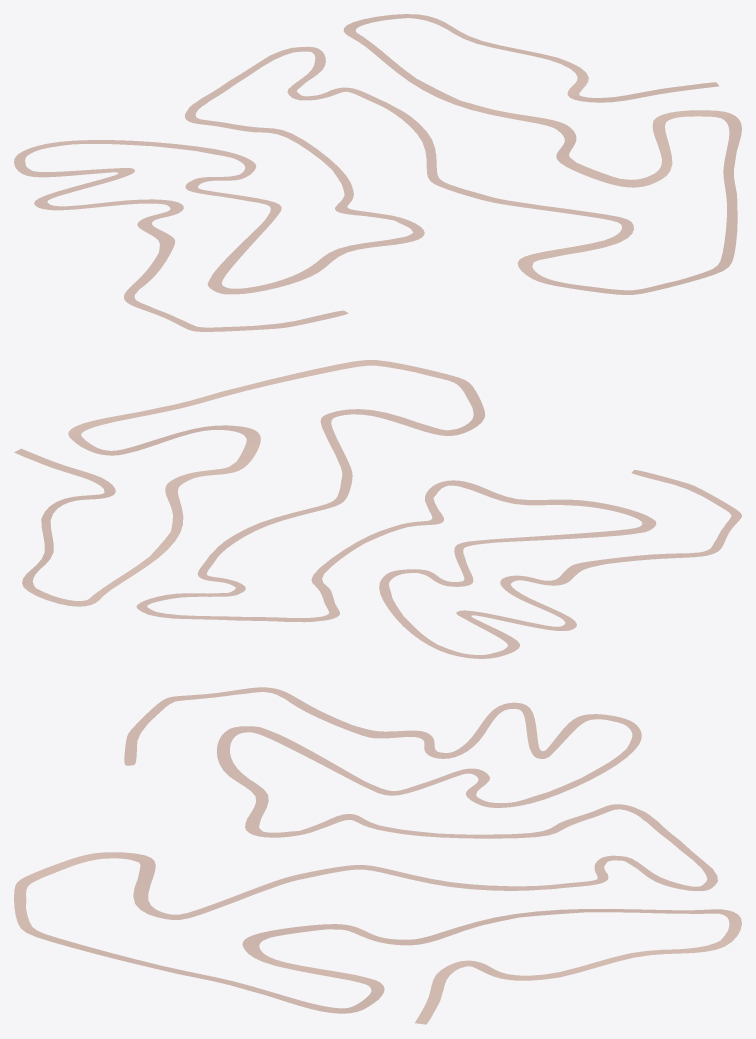
Rendered from duong di trong map (2).fbx.
3 renders of one model, top to bottom at view 1: azimuth 30°, elevation 25°; view 2: azimuth 150°, elevation 25°; view 3: azimuth 270°, elevation 25°, orthographic. The views are drawn at different scales.
Visible parts, largest first — view 1: duong_di; view 2: duong_di; view 3: duong_di.
Boxes of the visible parts, x1,y1,x2,y2 form: duong_di: (14,14,741,331); duong_di: (14,360,741,658); duong_di: (14,687,741,1024).
Size of the model in its own units: 81.36 by 0.0962 by 74.25.
